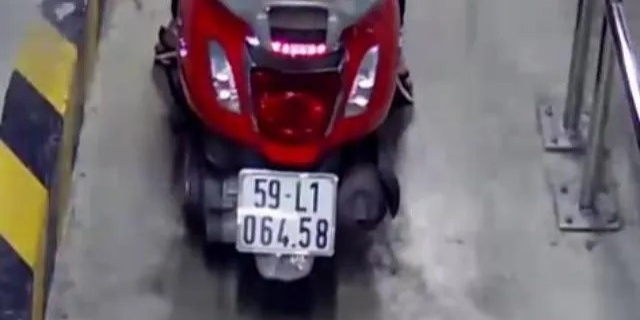bien_so: (237, 166, 336, 257)
